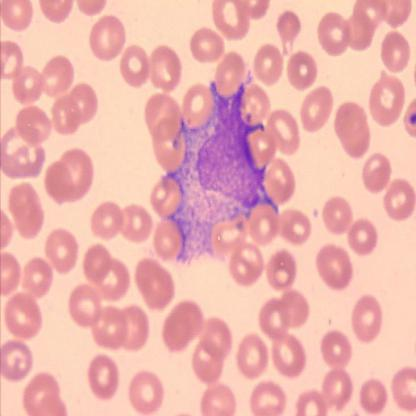Myelocyte: (164, 82, 280, 258)
